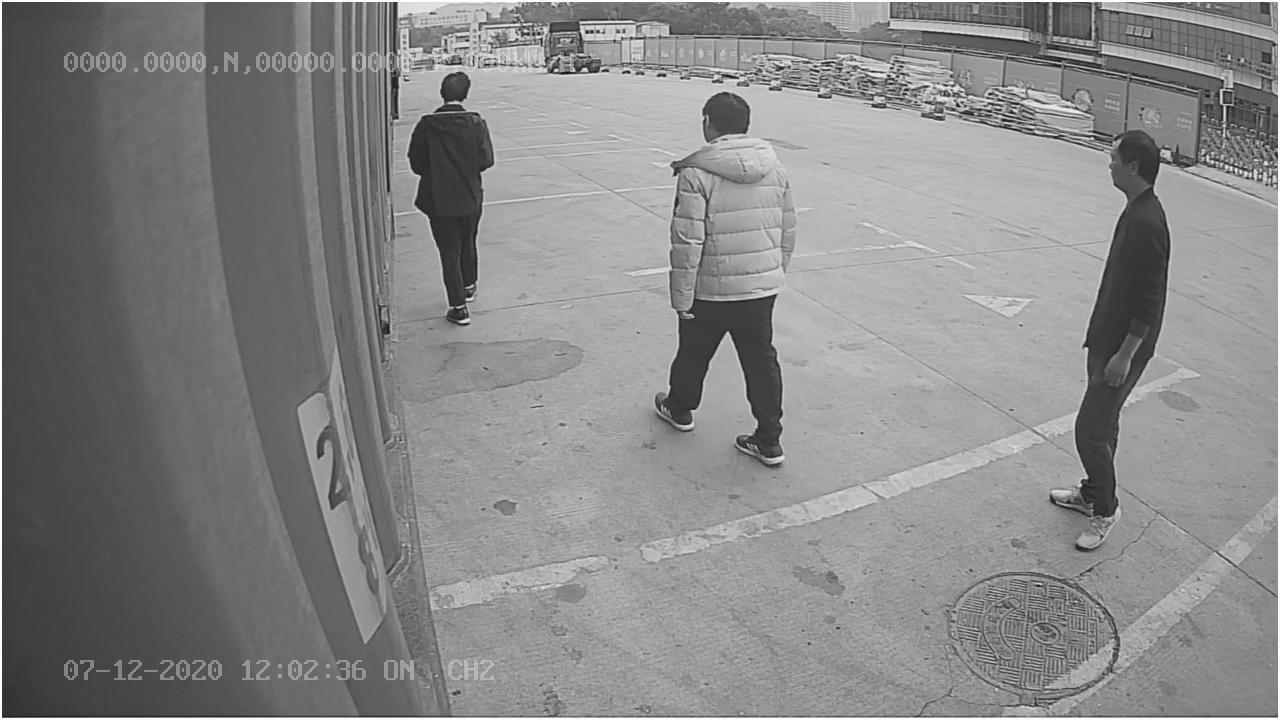person: (650, 82, 797, 466), (1043, 128, 1172, 551), (408, 72, 497, 327)
